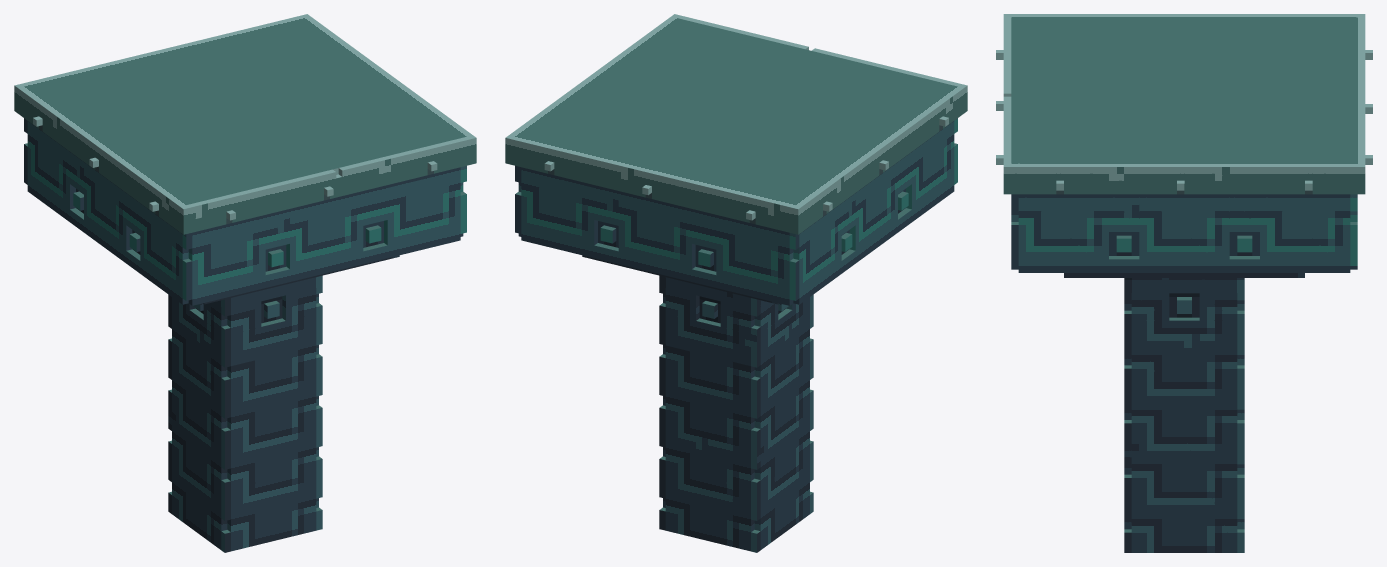
File: orange_pistonao.fezao.glb
3 renders of one model, left to right at view 1: azimuth 30°, elevation 25°; view 2: azimuth 150°, elevation 25°; view 3: azimuth 270°, elevation 25°, orthographic. The views are drawn at different scales.
Parts seen in each view (by area): view 1: ORANGE_PISTONAO; view 2: ORANGE_PISTONAO; view 3: ORANGE_PISTONAO.
Part boxes in pixels (left/top/right/bottom): ORANGE_PISTONAO: left=14, top=14, right=476, bottom=552; ORANGE_PISTONAO: left=505, top=14, right=967, bottom=552; ORANGE_PISTONAO: left=996, top=14, right=1372, bottom=552.
Size of the model in its own units: 3.12 by 4 by 3.12.
Materials: 1 (1 with a texture image).
